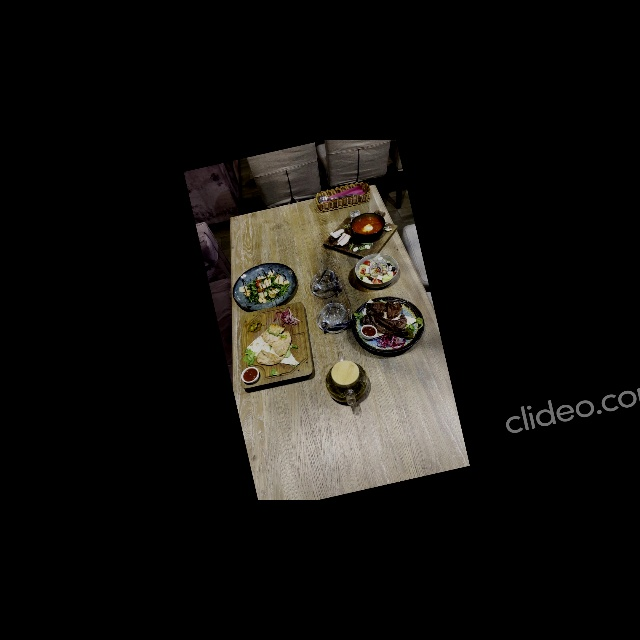Том ям: (319, 203, 404, 268)
графин с чаем: (319, 347, 373, 410)
закуска: (227, 301, 321, 393)
мясное блюдо: (347, 289, 430, 361)
салат: (228, 258, 301, 316)
салат цезарь: (352, 249, 402, 292)
